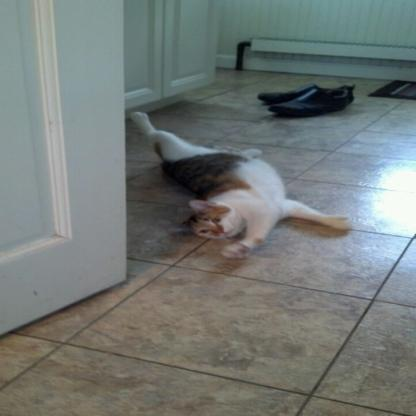Target: (124, 109, 354, 265)
